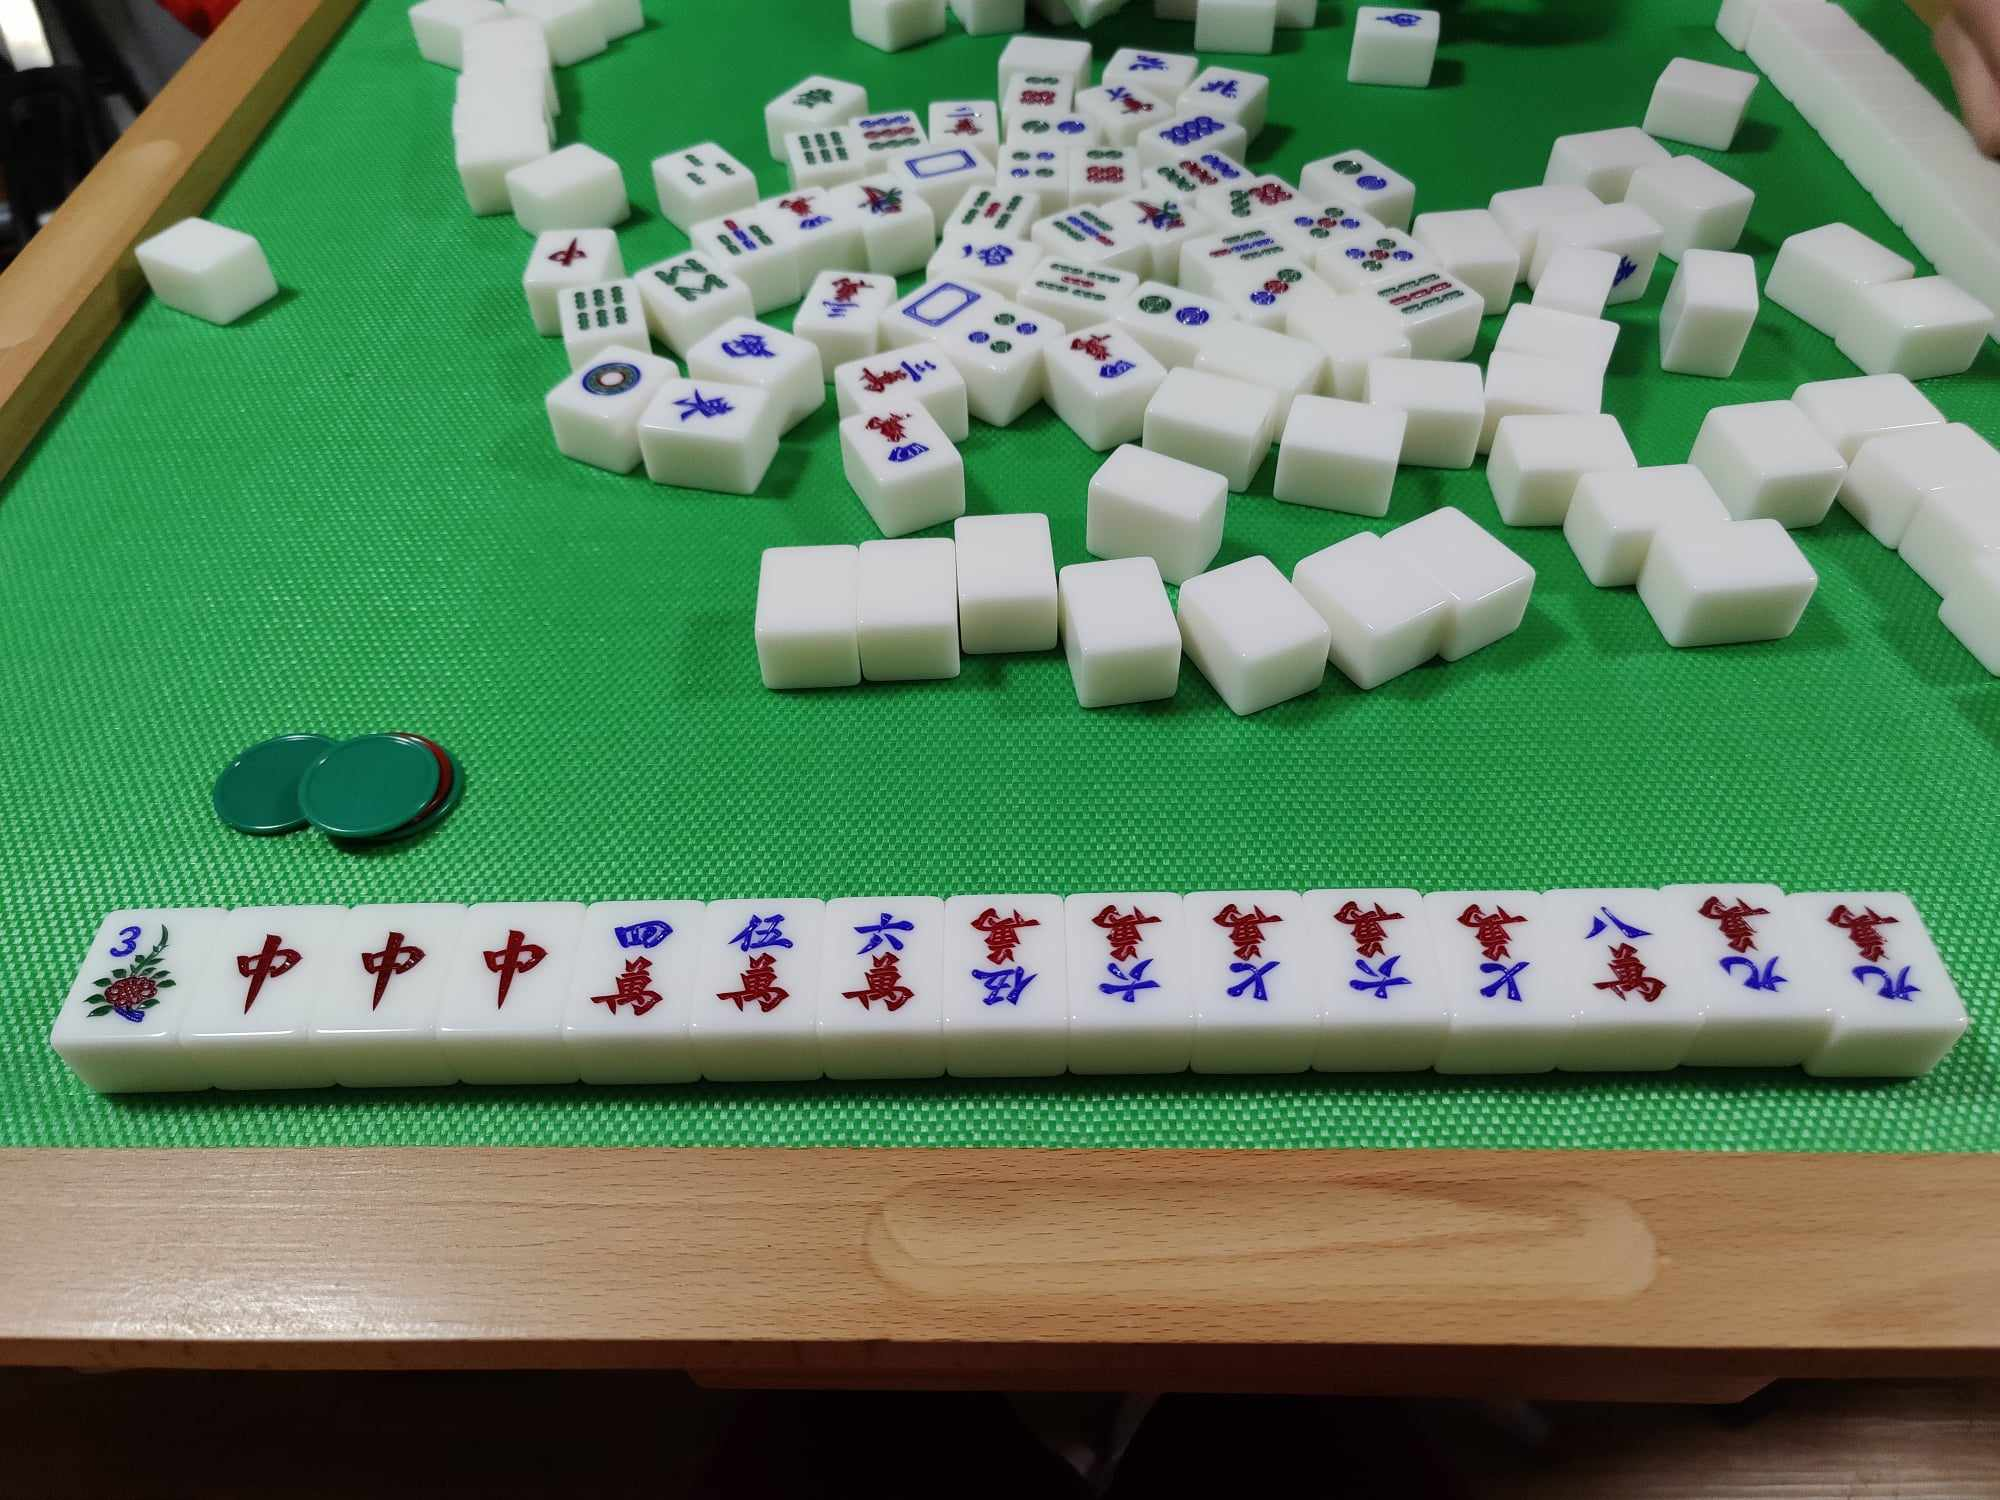character-eight: (1557, 892, 1672, 1015)
character-five: (953, 901, 1057, 1019), (710, 903, 806, 1021)
character-four: (583, 908, 683, 1027)
character-nine: (1693, 889, 1806, 1004), (1822, 892, 1931, 1010)
character-seven: (1192, 895, 1304, 1016), (1446, 893, 1542, 1019)
character-six: (1324, 893, 1427, 1012), (1079, 900, 1176, 1015), (836, 901, 932, 1013)
flower-blue_three: (93, 917, 183, 1030)
honor-red_dragon: (224, 912, 309, 1034), (337, 914, 427, 1023), (465, 919, 550, 1021)
